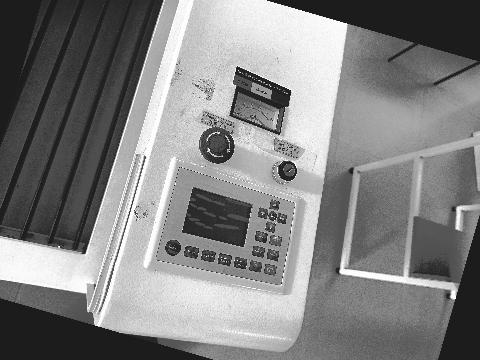Amp_Meter: (230, 85, 285, 134)
Display: (182, 187, 253, 247)
Down_button: (265, 221, 276, 233)
Emergency_Stop: (199, 127, 234, 163)
Enter_button: (269, 235, 282, 246)
Esc_button: (255, 231, 268, 243)
File_button: (249, 261, 262, 272)
Frame_button: (267, 249, 279, 261)
Left_button: (258, 207, 268, 219)
Max-Power_button: (234, 257, 247, 269)
Min-Power_button: (218, 253, 232, 266)
Origin_button: (252, 246, 265, 257)
Power_switch: (272, 161, 297, 184)
Pulse_button: (184, 246, 199, 259)
Reset_button: (165, 240, 181, 256)
Right_button: (277, 213, 287, 224)
Speed_button: (201, 250, 216, 262)
Start-Pause_button: (264, 264, 277, 275)
Up_button: (270, 199, 280, 210)
Z_U_button: (268, 211, 277, 221)
